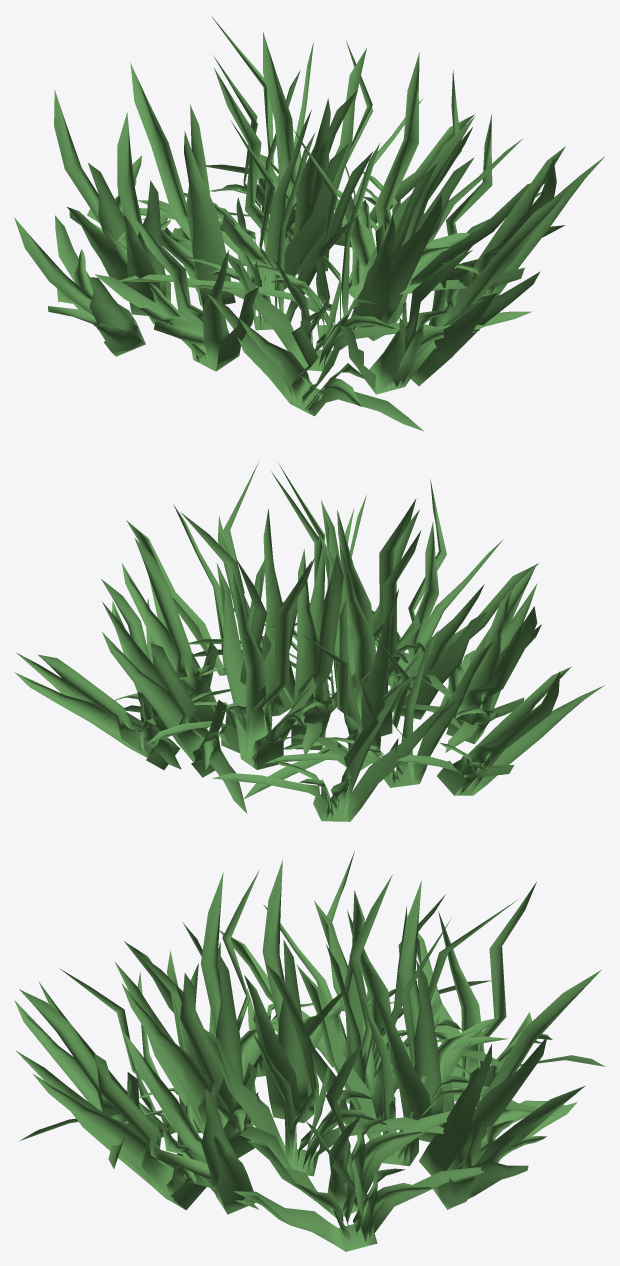
File: Hide_Bush.fbx
3 renders of one model, top to bottom at view 1: azimuth 30°, elevation 25°; view 2: azimuth 150°, elevation 25°; view 3: azimuth 270°, elevation 25°, orthographic. The views are drawn at different scales.
Parts seen in each view (by area): view 1: BushShape; view 2: BushShape; view 3: BushShape.
Part boxes in pixels (<box>): BushShape: <box>14,17,604,431</box>; BushShape: <box>14,463,604,821</box>; BushShape: <box>14,851,605,1251</box>.
Size of the model in its own units: 161 by 77.42 by 150.
